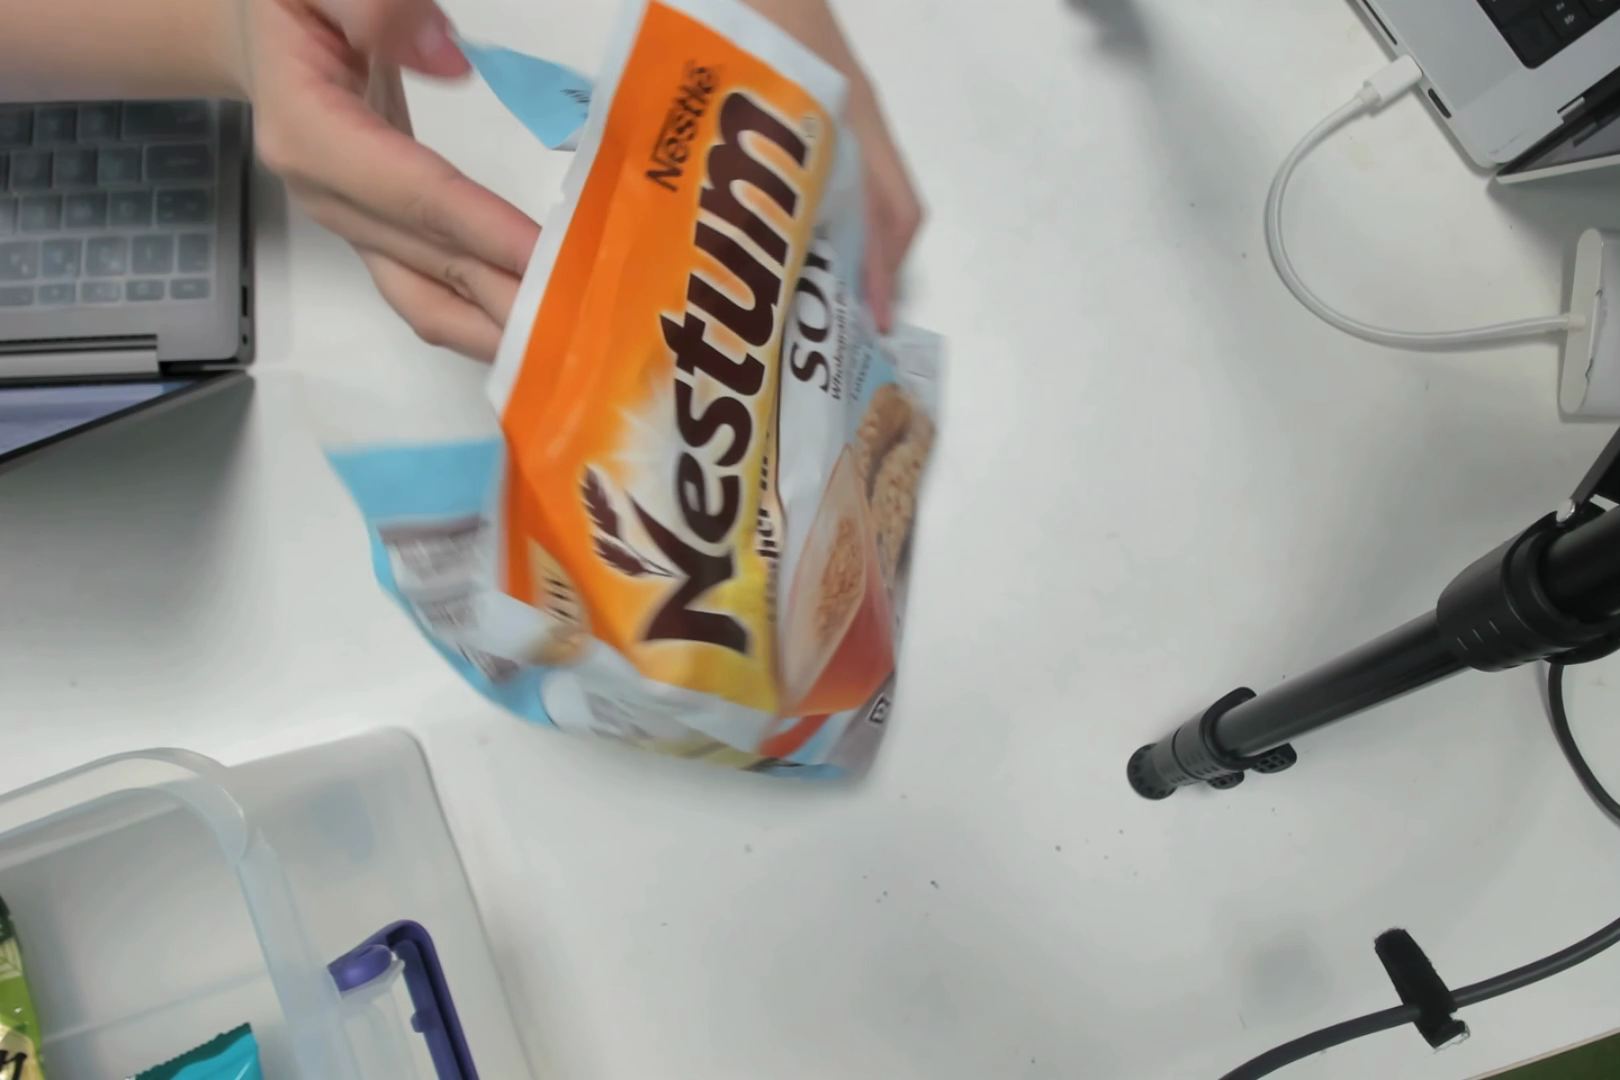e: (610, 74, 896, 773)
